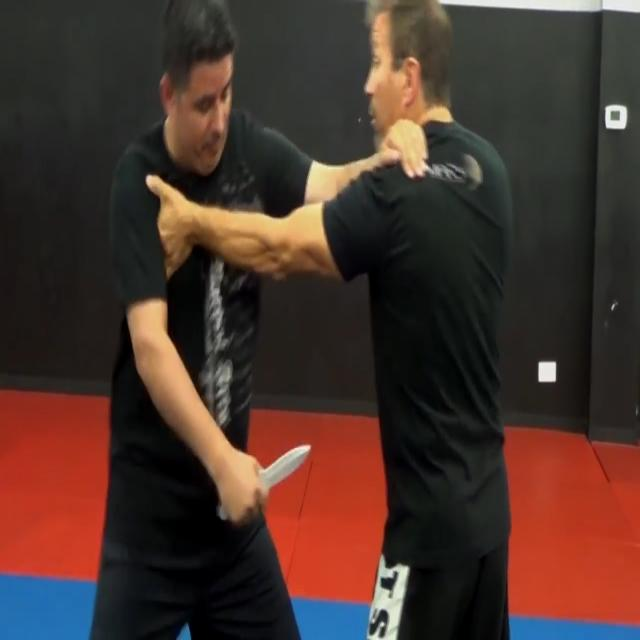knife: (261, 440, 320, 506)
